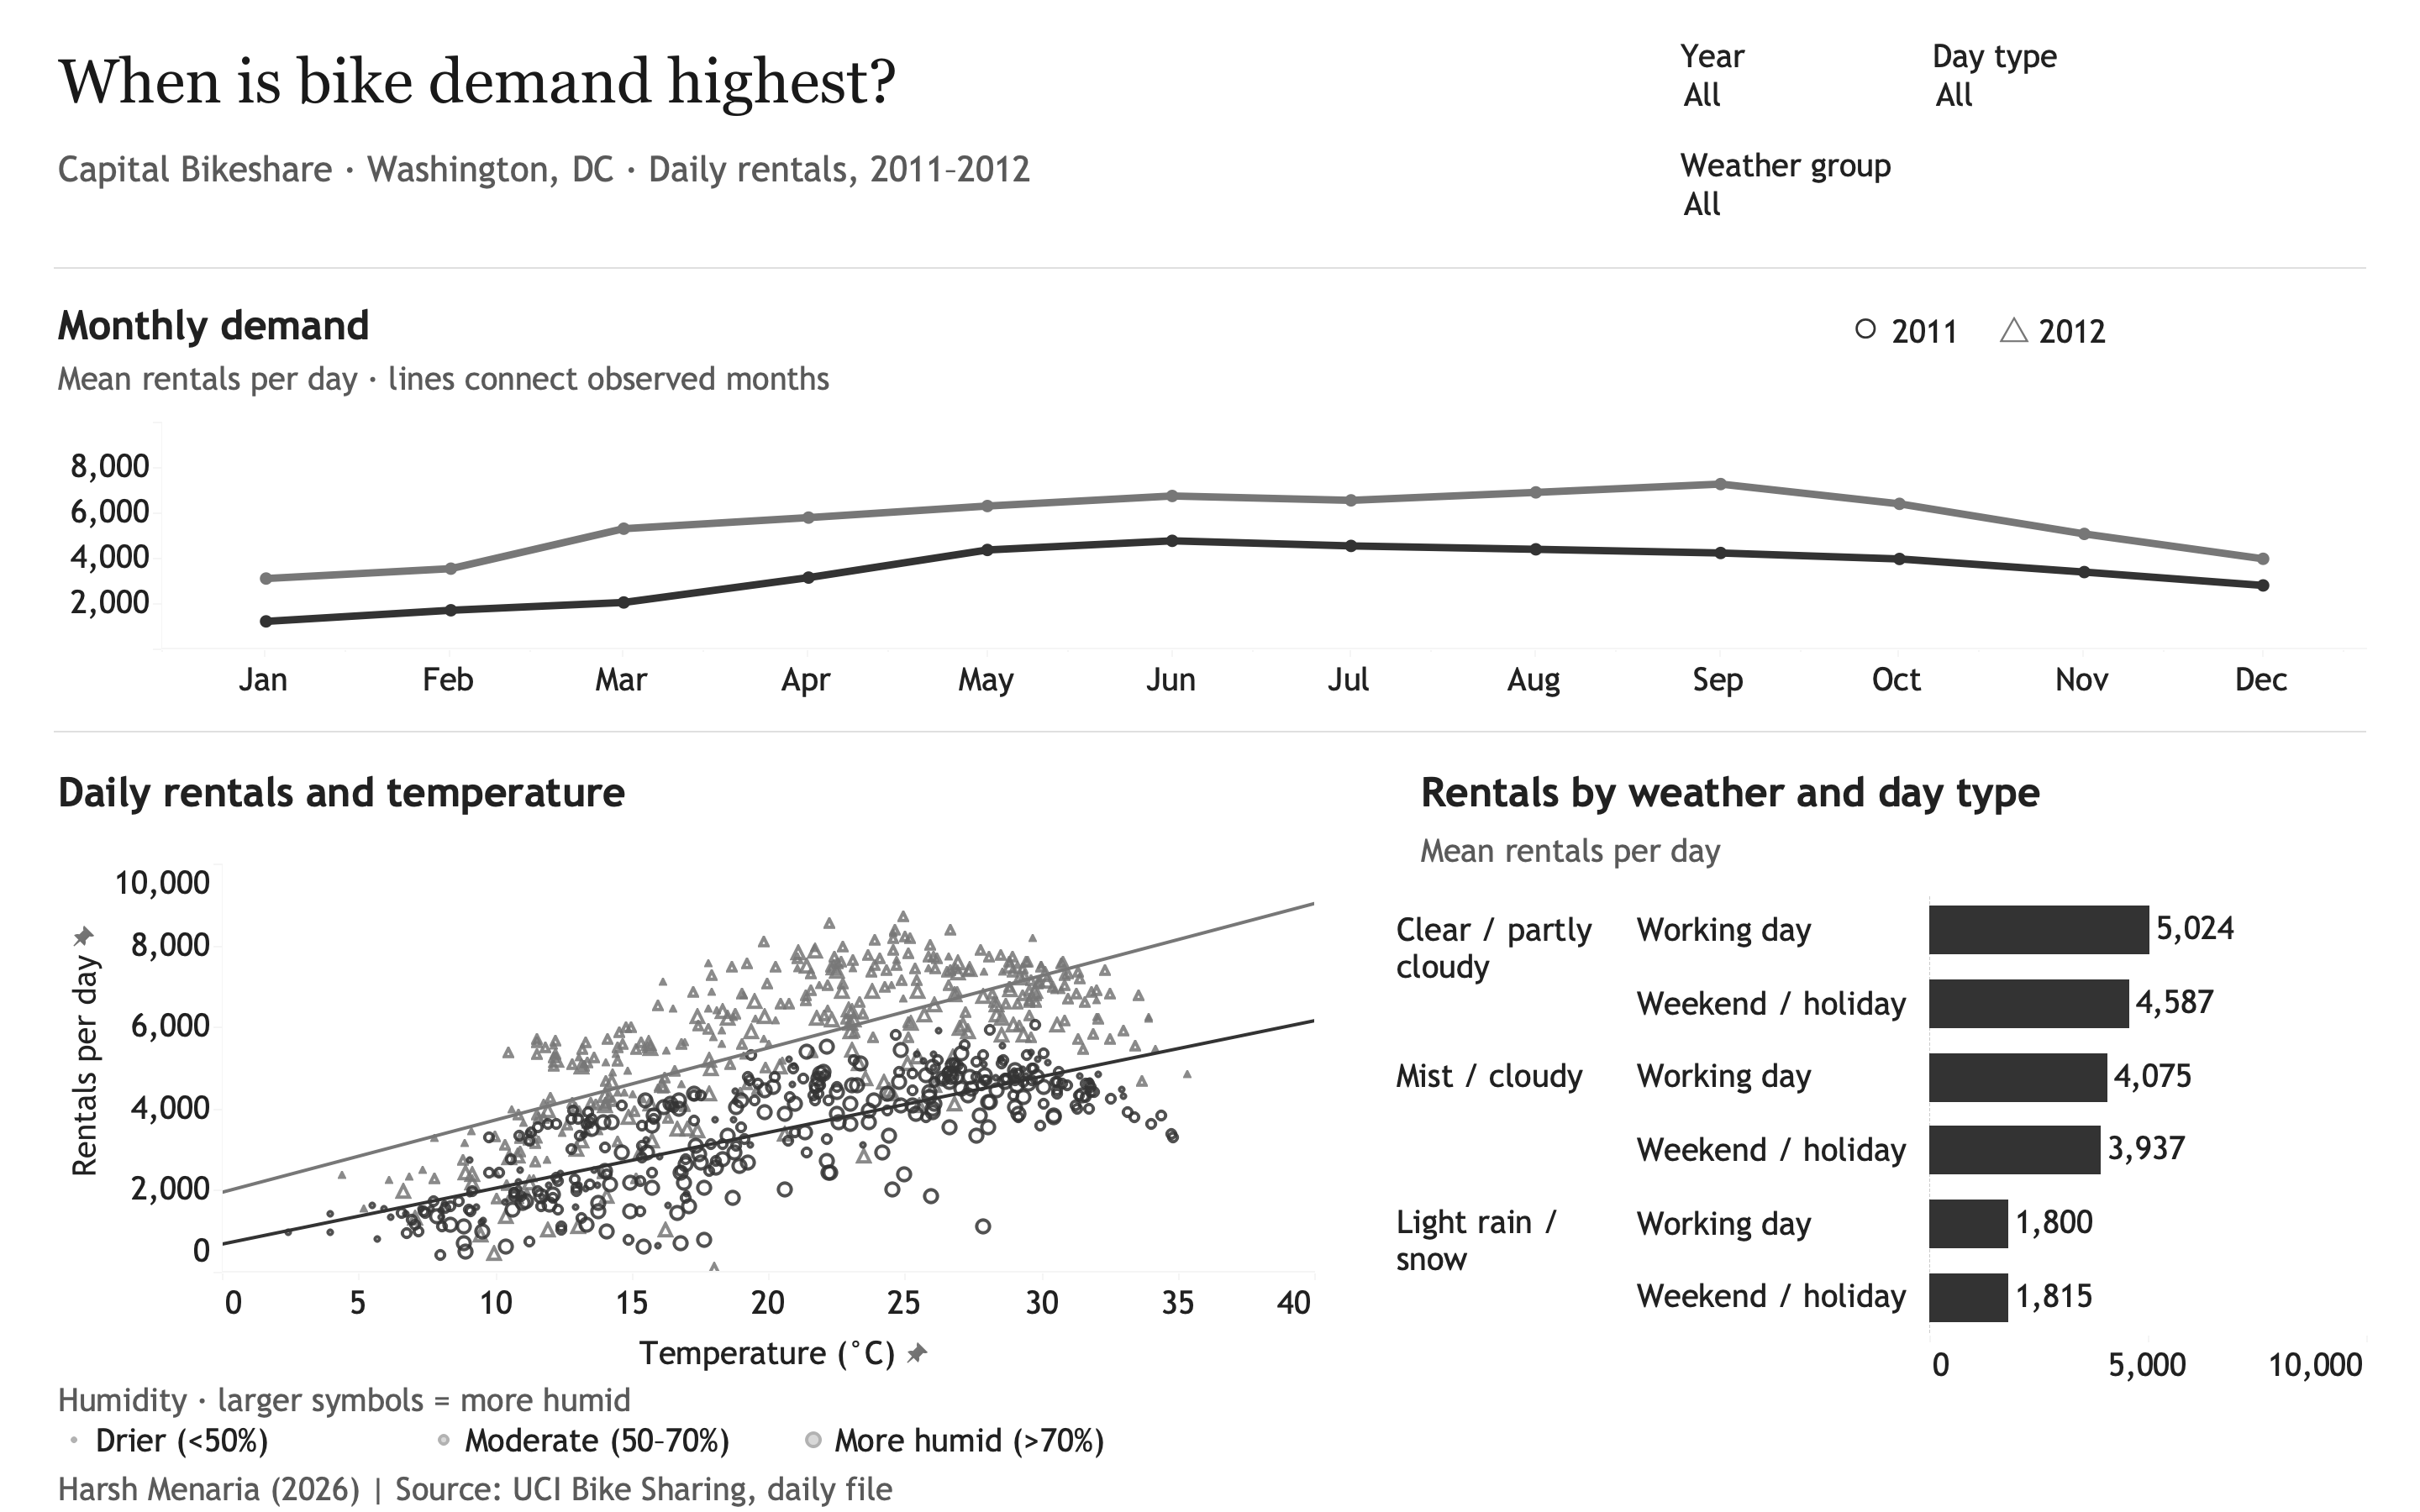

The page's visual inventory and layout, read from the dashboard file:
{"tool":"tableau","page":{"name":"Bike demand | Prototype","canvas":[1440,900],"ordinal":0},"visuals":[{"type":"blank","box":[0,0,1440,900]},{"type":"filter","title":"01 Monthly demand","param":"[federated.bike_demand].[none:Year:nk]","box":[1000,21,180,54]},{"type":"filter","title":"01 Monthly demand","param":"[federated.bike_demand].[none:DayType:nk]","box":[1200,21,208,54]},{"type":"text","box":[32,23,925,52]},{"type":"text","box":[32,86,925,30]},{"type":"filter","title":"02 Temperature and rentals","param":"[federated.bike_demand].[none:Calculation_1907443823489024:nk]","box":[1000,86,180,54]},{"type":"filter","title":"01 Monthly demand","param":"[federated.bike_demand].[none:Weather:nk]","box":[1200,86,208,54]},{"type":"blank","box":[32,159,1376,1]},{"type":"text","box":[1100,178,308,34]},{"type":"text","box":[32,179,1376,29]},{"type":"text","box":[32,214,1376,24]},{"type":"worksheet","title":"01 Monthly demand","mark":"Line","rows":["DailyRentals"],"cols":["Calculation_1435546893139968"],"box":[32,251,1376,165]},{"type":"blank","box":[32,435,1376,1]},{"type":"text","box":[32,457,750,29]},{"type":"text","box":[843,457,565,29]},{"type":"text","box":[843,492,565,30]},{"type":"worksheet","title":"02 Temperature and rentals","mark":"Shape","rows":["DailyRentals"],"cols":["TemperatureC"],"box":[32,514,750,310]},{"type":"worksheet","title":"03 Weather and day type","mark":"Bar","rows":["Weather","DayType"],"cols":["DailyRentals"],"box":[825,532,583,292]},{"type":"text","box":[32,819,600,30]},{"type":"text","box":[32,846,216,35]},{"type":"text","box":[252,846,223.2,35]},{"type":"text","box":[475.2,846,302.4,35]},{"type":"text","box":[32,875,1376,23]}]}

Visuals, with their boxes in screenshot pixels (x1, y1, x2, y2), scaled from the page's 1440x900 canvas onto the 2420x1512 screenshot:
blank: [0,0,2419,1511]
"01 Monthly demand" filter: [1681,35,1983,126]
"01 Monthly demand" filter: [2017,35,2366,126]
text: [54,39,1608,126]
text: [54,144,1608,195]
"02 Temperature and rentals" filter: [1681,144,1983,235]
"01 Monthly demand" filter: [2017,144,2366,235]
blank: [54,267,2366,269]
text: [1849,299,2366,356]
text: [54,301,2366,349]
text: [54,360,2366,400]
"01 Monthly demand" worksheet (Line marks): [54,422,2366,699]
blank: [54,731,2366,732]
text: [54,768,1314,816]
text: [1417,768,2366,816]
text: [1417,827,2366,877]
"02 Temperature and rentals" worksheet (Shape marks): [54,864,1314,1384]
"03 Weather and day type" worksheet (Bar marks): [1386,894,2366,1384]
text: [54,1376,1062,1426]
text: [54,1421,417,1480]
text: [423,1421,798,1480]
text: [798,1421,1307,1480]
text: [54,1470,2366,1509]
